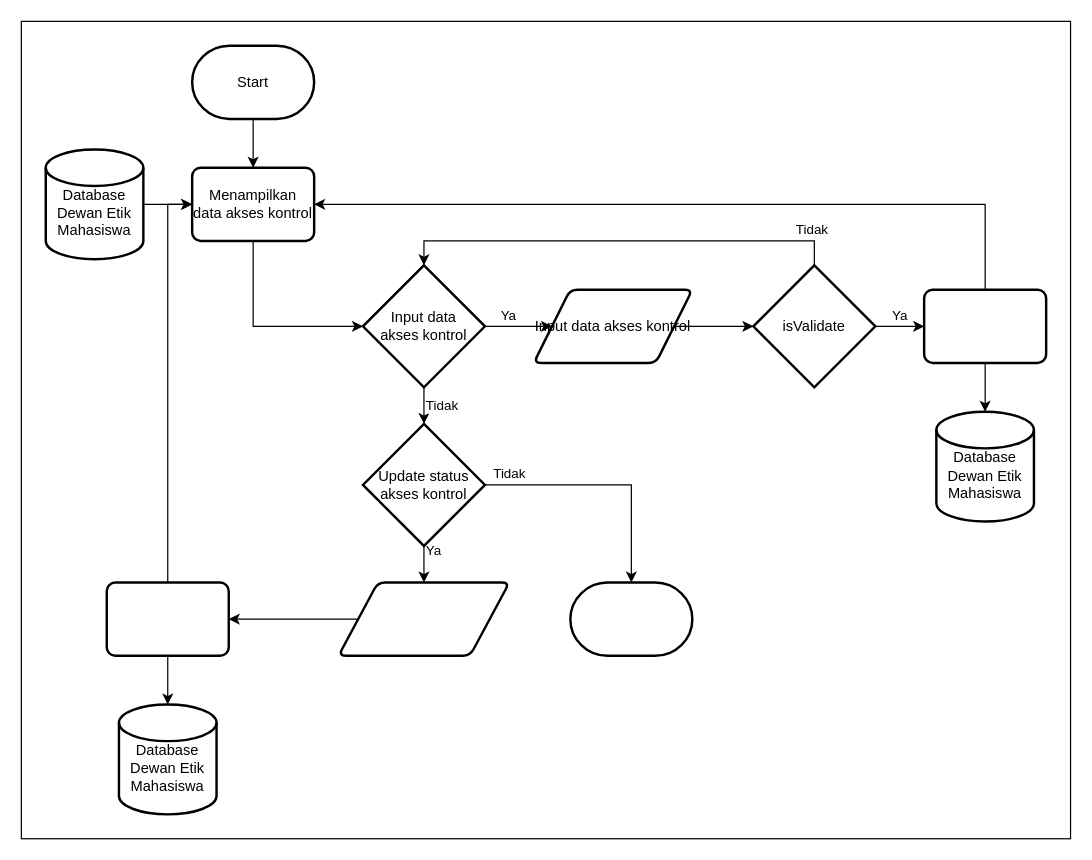
Image size: 1092x860. Some labels were removed from this diagram. The centre of each missing label's shape, as x and y in pixels:
"End" belongs at point 631,618.
"Input status akses kontrol" belongs at point 423,618.
"Insert data akses kontrol ke database" belongs at point 984,326.
"update status akses kontrol ke database" belongs at point 167,618.
